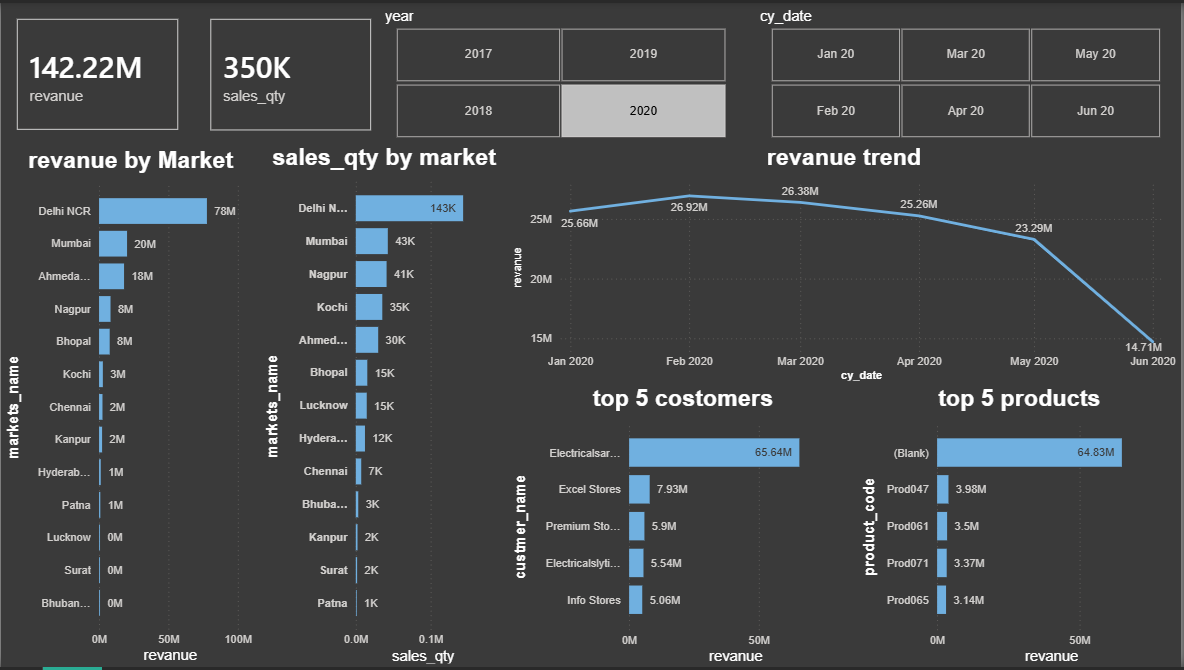

Layout of this report page (visuals, bound fields, positions):
{"tool":"powerbi","page":{"name":"Page 1","canvas":[1280,720],"ordinal":0},"visuals":[{"type":"cardVisual","fields":{"Data":["BaseMeasure.revanue"]},"box":[0,0,209.8,155],"z":0},{"type":"cardVisual","fields":{"Data":["BaseMeasure.sales_qty"]},"box":[210.4,0,208.7,155.7],"z":1000},{"type":"barChart","title":"revanue by Market","fields":{"Y":["BaseMeasure.revanue"],"Category":["sales markets.markets_name"]},"box":[0,156.1,281.4,564.4],"z":2000},{"type":"barChart","title":"sales_qty by market","fields":{"Category":["sales markets.markets_name"],"Y":["BaseMeasure.sales_qty"]},"box":[281.6,152.4,268.3,568.2],"z":3000},{"type":"slicer","fields":{"Values":["sales date.cy_date"]},"box":[810,0,470.4,152.4],"z":4000},{"type":"slicer","fields":{"Values":["sales date.year"]},"box":[404.2,0,405.8,152.4],"z":5000},{"type":"barChart","title":"top 5 costomers","fields":{"Category":["sales customers.custmer_name"],"Y":["BaseMeasure.revanue"]},"box":[550,414.1,379.3,306.4],"z":6000},{"type":"barChart","title":"top 5 products","fields":{"Category":["sales products.product_code"],"Y":["BaseMeasure.revanue"]},"box":[929.3,414.1,351.2,306.4],"z":7000},{"type":"lineChart","title":"revanue trend","fields":{"Y":["BaseMeasure.revanue"],"Category":["sales date.cy_date"]},"box":[550,152.4,728.9,261.7],"z":8000}]}

Visuals, with their boxes in screenshot pixels (x1, y1, x2, y2), scaled from the page's 1280x720 canvas onto the 1184x670 screenshot:
cardVisual - BaseMeasure.revanue: {"x1": 0, "y1": 0, "x2": 194, "y2": 144}
cardVisual - BaseMeasure.sales_qty: {"x1": 195, "y1": 0, "x2": 388, "y2": 145}
"revanue by Market" barChart: {"x1": 0, "y1": 145, "x2": 260, "y2": 669}
"sales_qty by market" barChart: {"x1": 260, "y1": 142, "x2": 509, "y2": 669}
slicer - sales date.cy_date: {"x1": 749, "y1": 0, "x2": 1183, "y2": 142}
slicer - sales date.year: {"x1": 374, "y1": 0, "x2": 749, "y2": 142}
"top 5 costomers" barChart: {"x1": 509, "y1": 385, "x2": 860, "y2": 669}
"top 5 products" barChart: {"x1": 860, "y1": 385, "x2": 1183, "y2": 669}
"revanue trend" lineChart: {"x1": 509, "y1": 142, "x2": 1183, "y2": 385}
